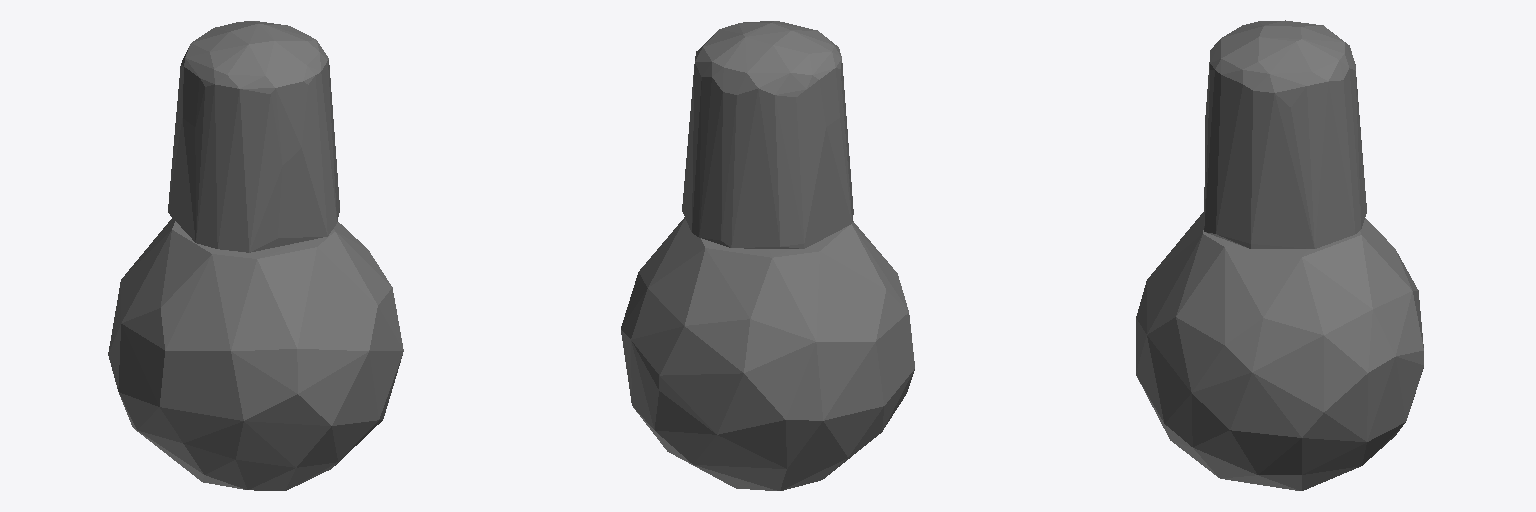
robot.urdf — light_bulb_011:
<?xml version="1.0" ?>
<robot name="light_bulb_011">
  <material name="color">
    <color rgba=".5 .5 .5 1"/>
  </material>

  <link name="base_link">
    <contact>
      <lateral_friction value="1.0"/>
      <rolling_friction value="0.001"/>
      <spinning_friction value="0.001"/>
      <inertia_scaling value="1.0"/>
    </contact>
    <inertial>
      <origin rpy="0 0 0" xyz="2.36424e-06 7.08223e-06 -0.00929004"/>
       <mass value="0.1"/>
       <inertia ixx="1" ixy="0" ixz="0" iyy="1" iyz="0" izz="1"/>
    </inertial>

    <visual>
      <origin rpy="0 0 0" xyz="0 0 0"/>
      <geometry>
        <mesh filename="light_bulb_011_vhacd_0_of_2.obj" scale="1 1 1"/>
      </geometry>
      <material name="color"/>
    </visual>
    <visual>
      <origin rpy="0 0 0" xyz="0 0 0"/>
      <geometry>
        <mesh filename="light_bulb_011_vhacd_1_of_2.obj" scale="1 1 1"/>
      </geometry>
      <material name="color"/>
    </visual>

    <collision>
      <origin rpy="0 0 0" xyz="0 0 0"/>
      <geometry>
        <mesh filename="light_bulb_011_vhacd_0_of_2.obj" scale="1 1 1"/>
      </geometry>
    </collision>
    <collision>
      <origin rpy="0 0 0" xyz="0 0 0"/>
      <geometry>
        <mesh filename="light_bulb_011_vhacd_1_of_2.obj" scale="1 1 1"/>
      </geometry>
    </collision>

  </link>
</robot>

--- What the picture shows (computed from the rendered views, not written in the file) ---
The picture shows the robot from 3 angles, left to right: view 1: azimuth 30°, elevation 25°; view 2: azimuth 150°, elevation 25°; view 3: azimuth 270°, elevation 25°; orthographic projection.
Model light_bulb_011 with 1 links and 0 joints (none), rooted at base_link, posed all joints at 0.
Visible links, largest first — view 1: base_link; view 2: base_link; view 3: base_link.
Boxes of the visible links, x1,y1,x2,y2 form: base_link: (108, 21, 403, 490); base_link: (621, 21, 914, 490); base_link: (1136, 20, 1423, 490).
Bounding box of the posed robot: 0.0809 × 0.0807 × 0.1373 m (x, y, z).
2 mesh visuals loaded from 2 distinct referenced files (2 OBJ).